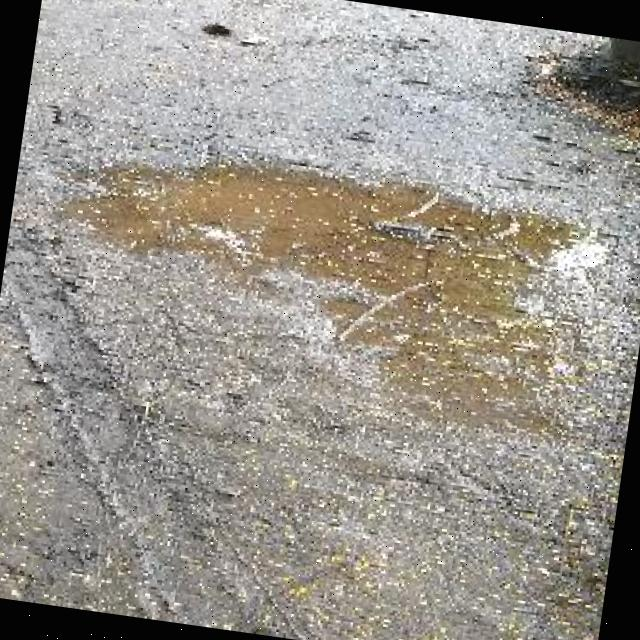stagnation: (26, 90, 640, 475)
